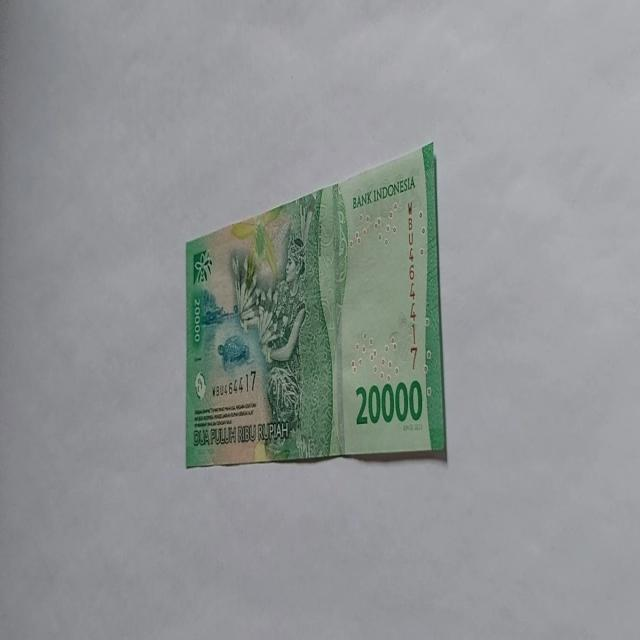dua puluh ribu rupiah: (184, 140, 447, 470)
